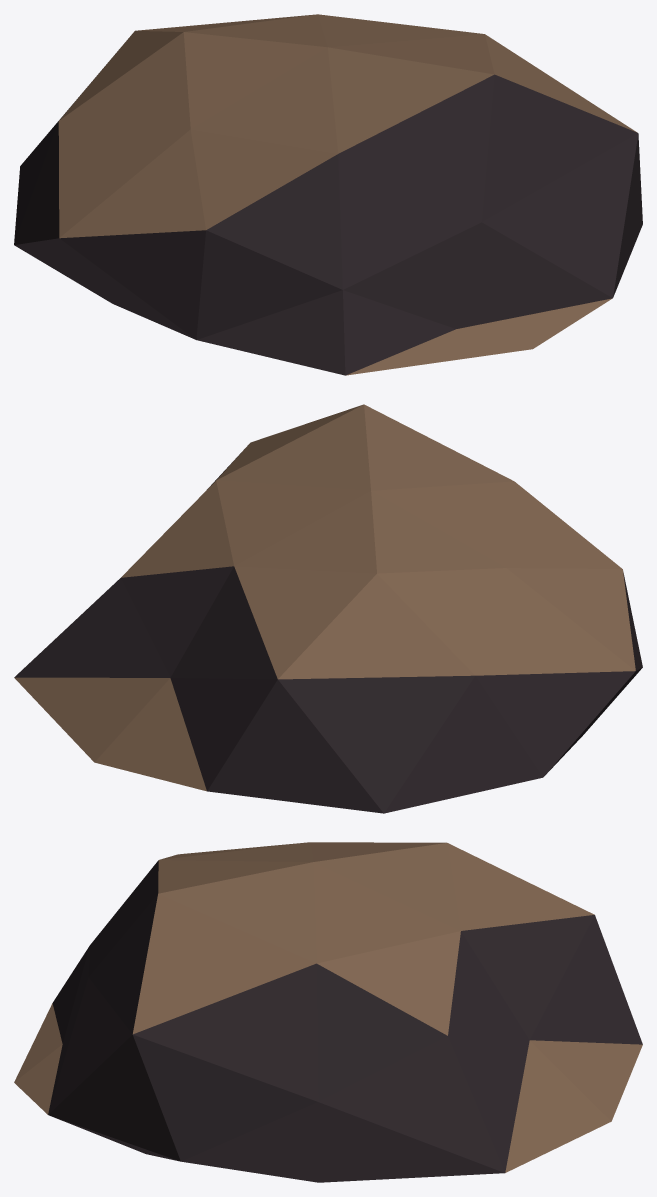
The model's file is boulder_s2.glb.
3 renders of one model, top to bottom at view 1: azimuth 30°, elevation 25°; view 2: azimuth 150°, elevation 25°; view 3: azimuth 270°, elevation 25°, orthographic. The views are drawn at different scales.
Visible parts, largest first — view 1: body__M_Cliff_Licorice, body__M_Cliff_Crust_T0; view 2: body__M_Cliff_Crust_T0, body__M_Cliff_Licorice; view 3: body__M_Cliff_Licorice, body__M_Cliff_Crust_T0.
Boxes of the visible parts, x1,y1,x2,y2 form: body__M_Cliff_Licorice: [14, 58, 642, 375]; body__M_Cliff_Crust_T0: [58, 14, 637, 375]; body__M_Cliff_Crust_T0: [14, 404, 635, 791]; body__M_Cliff_Licorice: [14, 445, 642, 813]; body__M_Cliff_Licorice: [48, 860, 642, 1182]; body__M_Cliff_Crust_T0: [14, 842, 642, 1172].
Size of the model in its own units: 0.3177 by 0.1184 by 0.3279.
